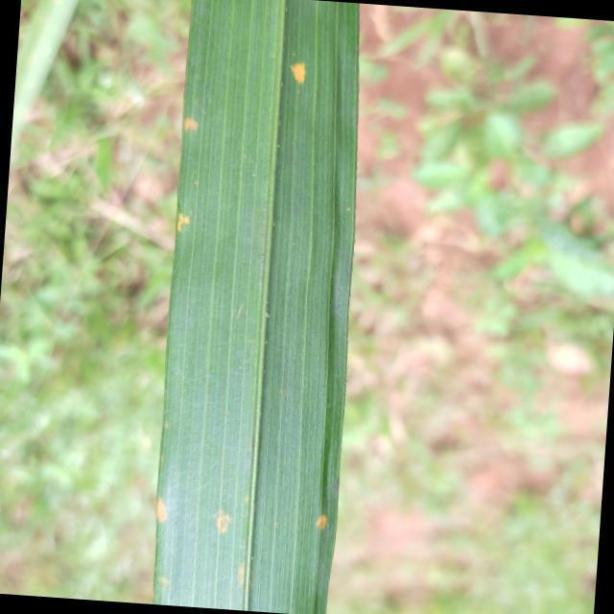Kalium: (149, 5, 363, 614)
